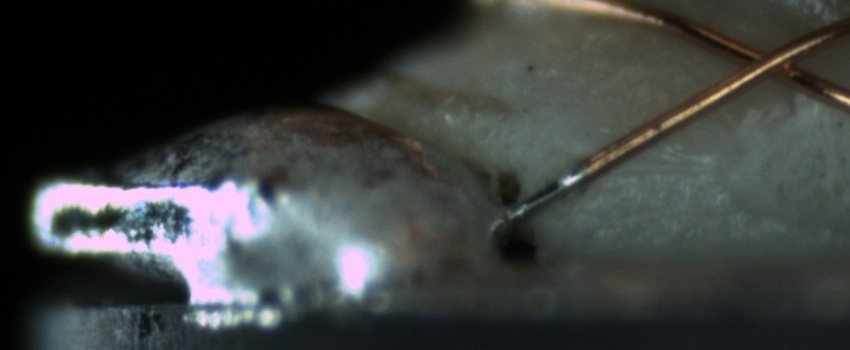CL: (718, 28, 826, 93)
DL: (601, 142, 718, 195)
TS: (507, 164, 590, 222)
TTCW: (512, 145, 607, 223)
